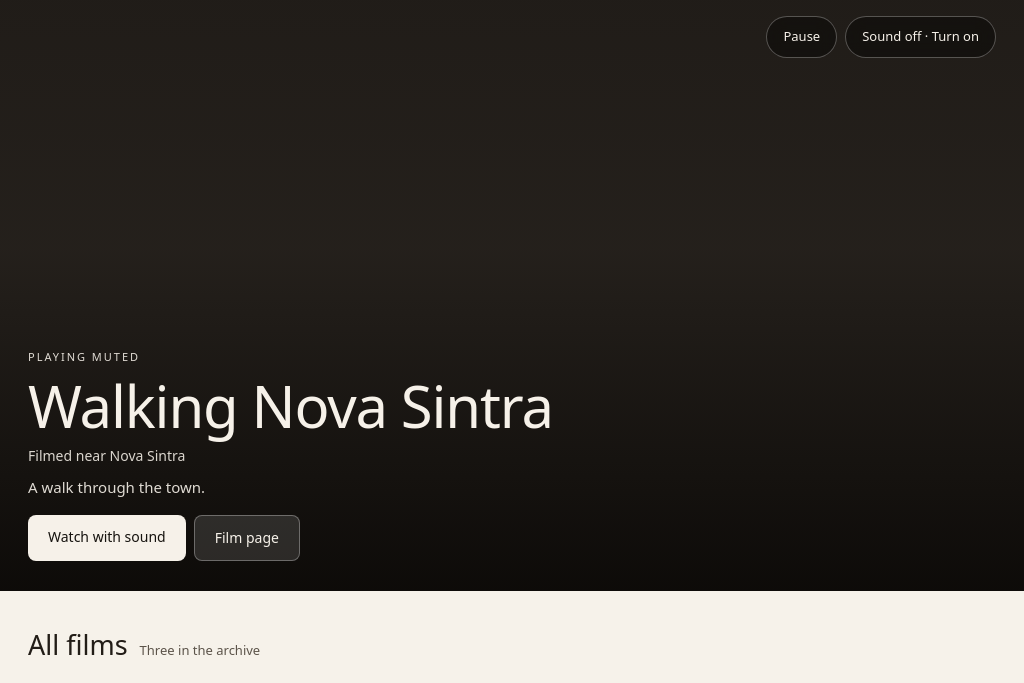
Test: FilmsCinema › plays the featured film muted on a desktop
Expected: the text "Playing muted" is shown, x1=28 y1=349 x2=140 y2=364
Click the button "Sound off · Turn on". click: (921, 37)
box: x1=845 y1=16 x2=996 y2=58
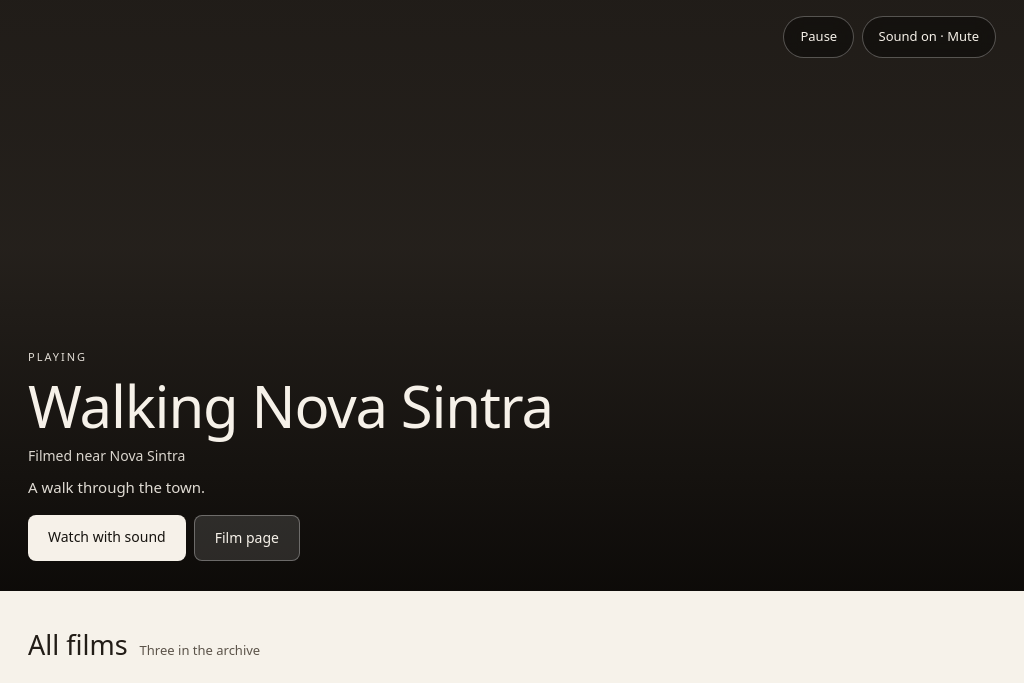
Expected: the text "Playing" is shown, x1=28 y1=349 x2=87 y2=364
Expected: the button "Sound on · Mute" is shown, x1=862 y1=16 x2=996 y2=58
Click the button "Pause". click: (818, 37)
box: x1=783 y1=16 x2=854 y2=58
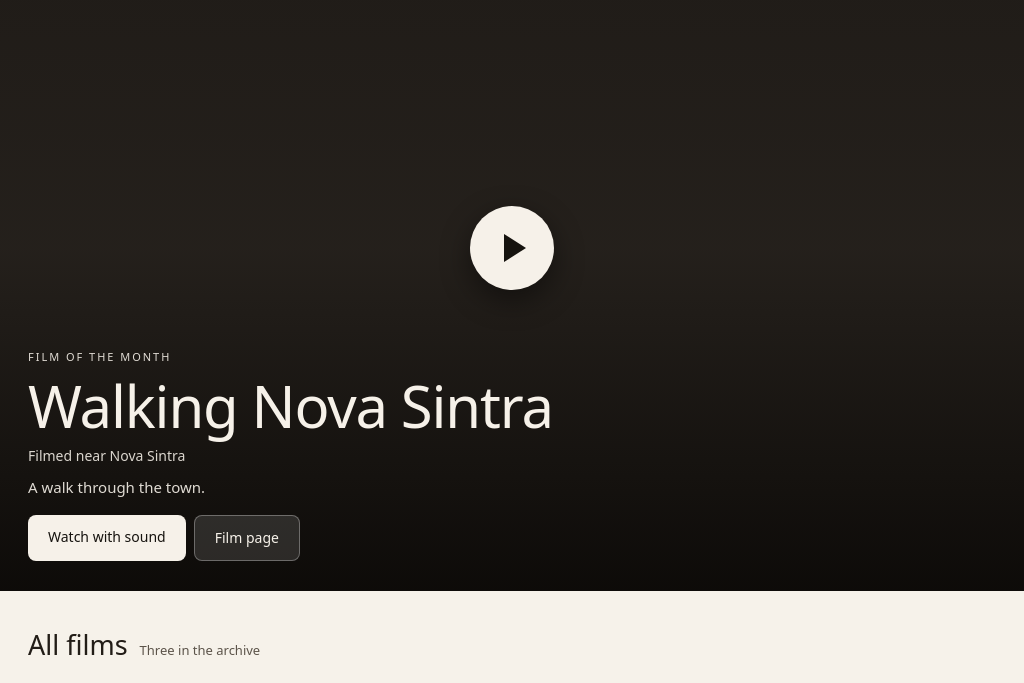
Expected: the text "Film of the month" is shown, x1=28 y1=349 x2=171 y2=364
Expected: the button named "Play Walking Nova Sintra, muted" is shown, x1=470 y1=206 x2=554 y2=290
